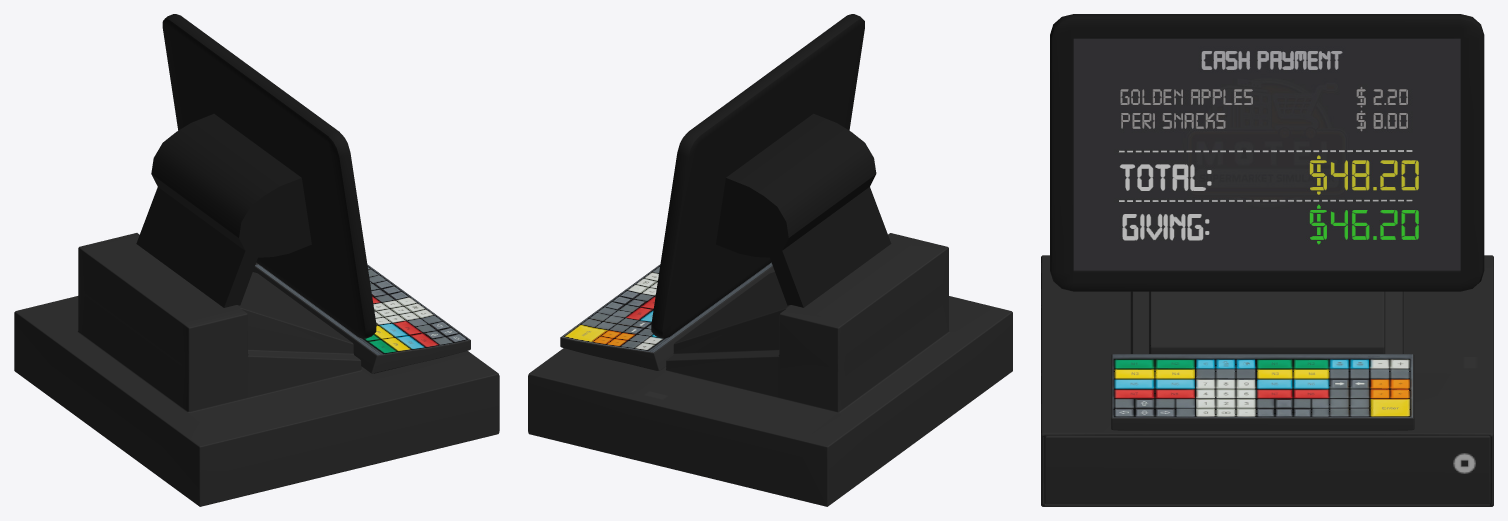
File: POS.fbx
The picture shows the model from 3 angles, left to right: view 1: azimuth 30°, elevation 25°; view 2: azimuth 150°, elevation 25°; view 3: azimuth 270°, elevation 25°; orthographic projection. The views are drawn at different scales.
Parts seen in each view (by area): view 1: POS_body, Screen; view 2: POS_body, Screen; view 3: Screen, POS_body.
Part boxes in pixels (x1=…): POS_body: x1=14, y1=233, x2=499, y2=506; Screen: x1=136, y1=14, x2=376, y2=338; POS_body: x1=528, y1=233, x2=1012, y2=506; Screen: x1=651, y1=14, x2=891, y2=338; Screen: x1=1050, y1=14, x2=1484, y2=291; POS_body: x1=1041, y1=255, x2=1493, y2=506.
Size of the model in its own units: 0.4376 by 0.4573 by 0.4671.
3 materials, 3 textured.
